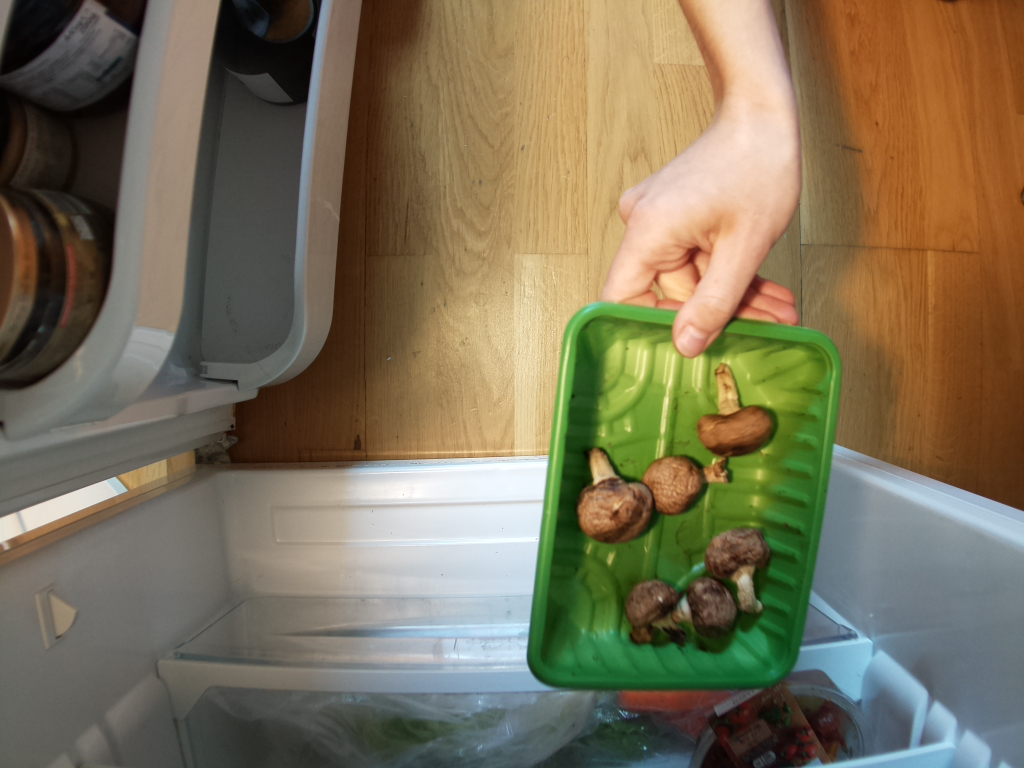mushrooms-bad: (532, 295, 832, 690)
